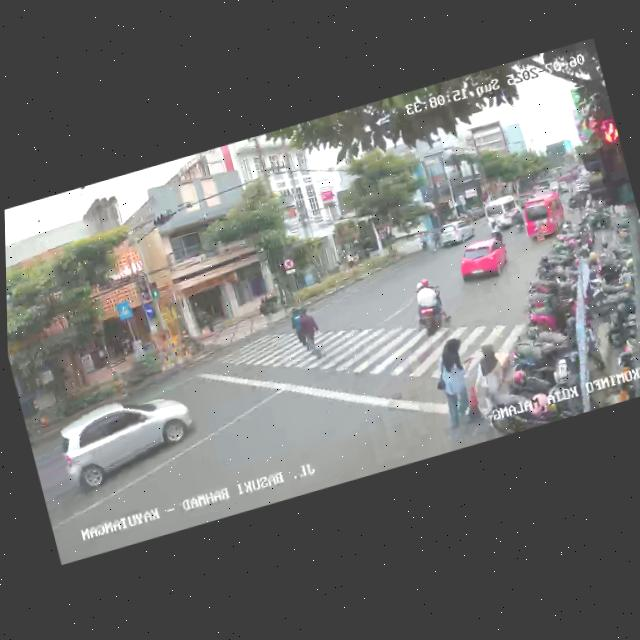car: (52, 380, 207, 503), (453, 232, 514, 291), (518, 185, 574, 246), (482, 193, 524, 232), (435, 216, 478, 251)
motorcycle: (407, 273, 452, 340)
person: (423, 333, 483, 439), (463, 338, 514, 420), (297, 303, 324, 358), (287, 306, 309, 354)
